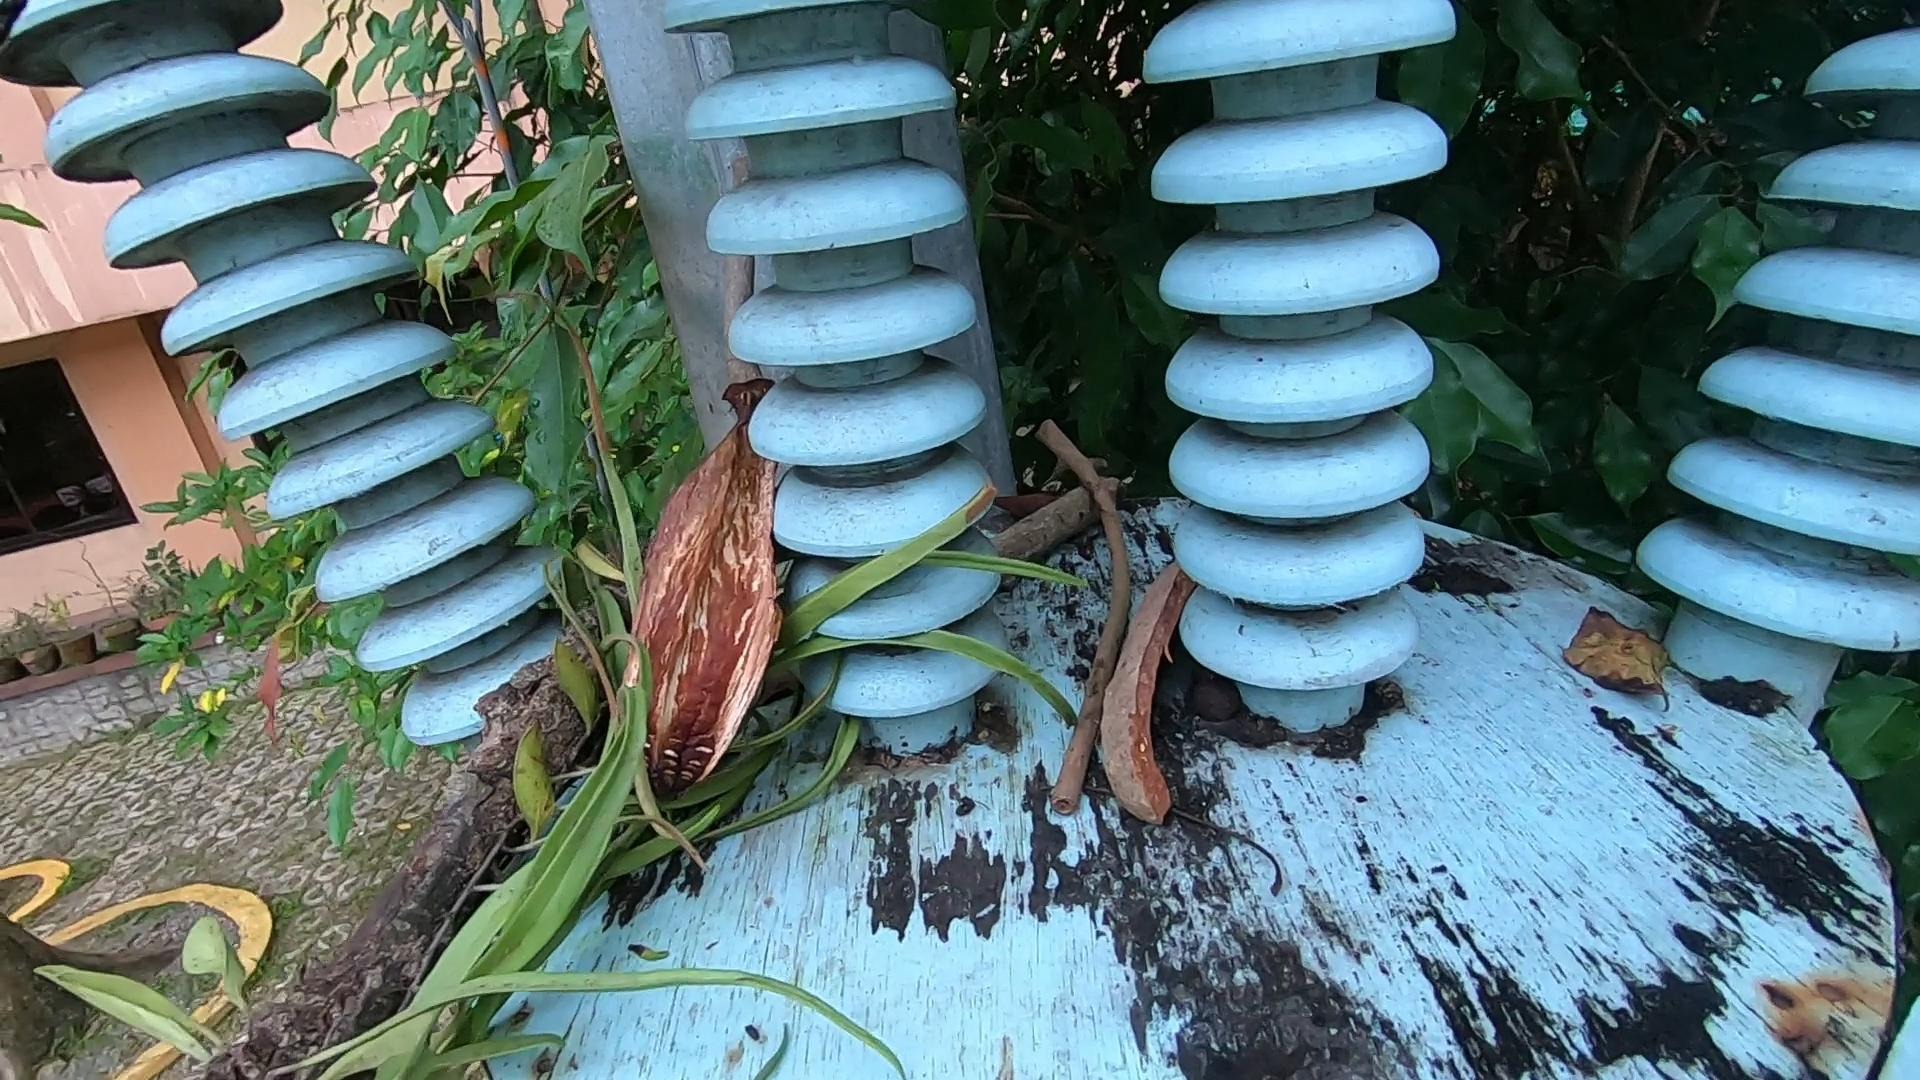branch with leaves: (36, 313, 1084, 1080)
leaf: (1564, 603, 1685, 707)
mahogany fruit: (641, 404, 862, 761), (1047, 506, 1276, 833)
tree branch: (1036, 413, 1129, 808), (985, 459, 1118, 567)
